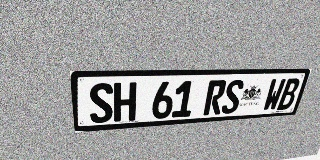1: (172, 81, 195, 118)
6: (151, 81, 175, 119)
B: (277, 78, 301, 110)
H: (114, 82, 137, 122)
R: (203, 80, 227, 115)
S: (88, 83, 113, 124), (220, 80, 245, 114)
W: (262, 79, 286, 111)
